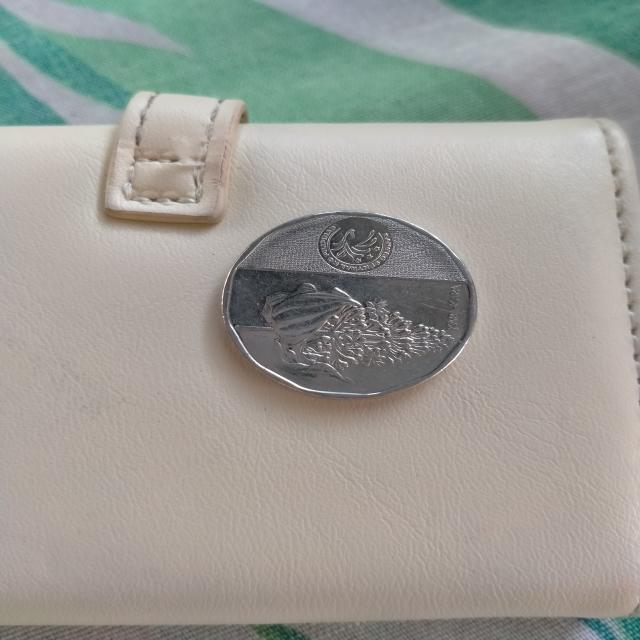10_New_Back: (240, 276, 510, 378)
